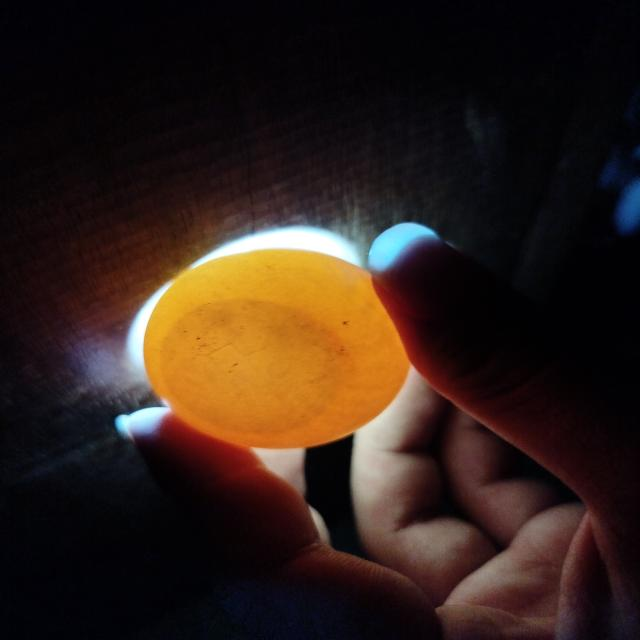Camara de Ar: (160, 299, 353, 433)
Rachadura: (202, 342, 265, 375)
